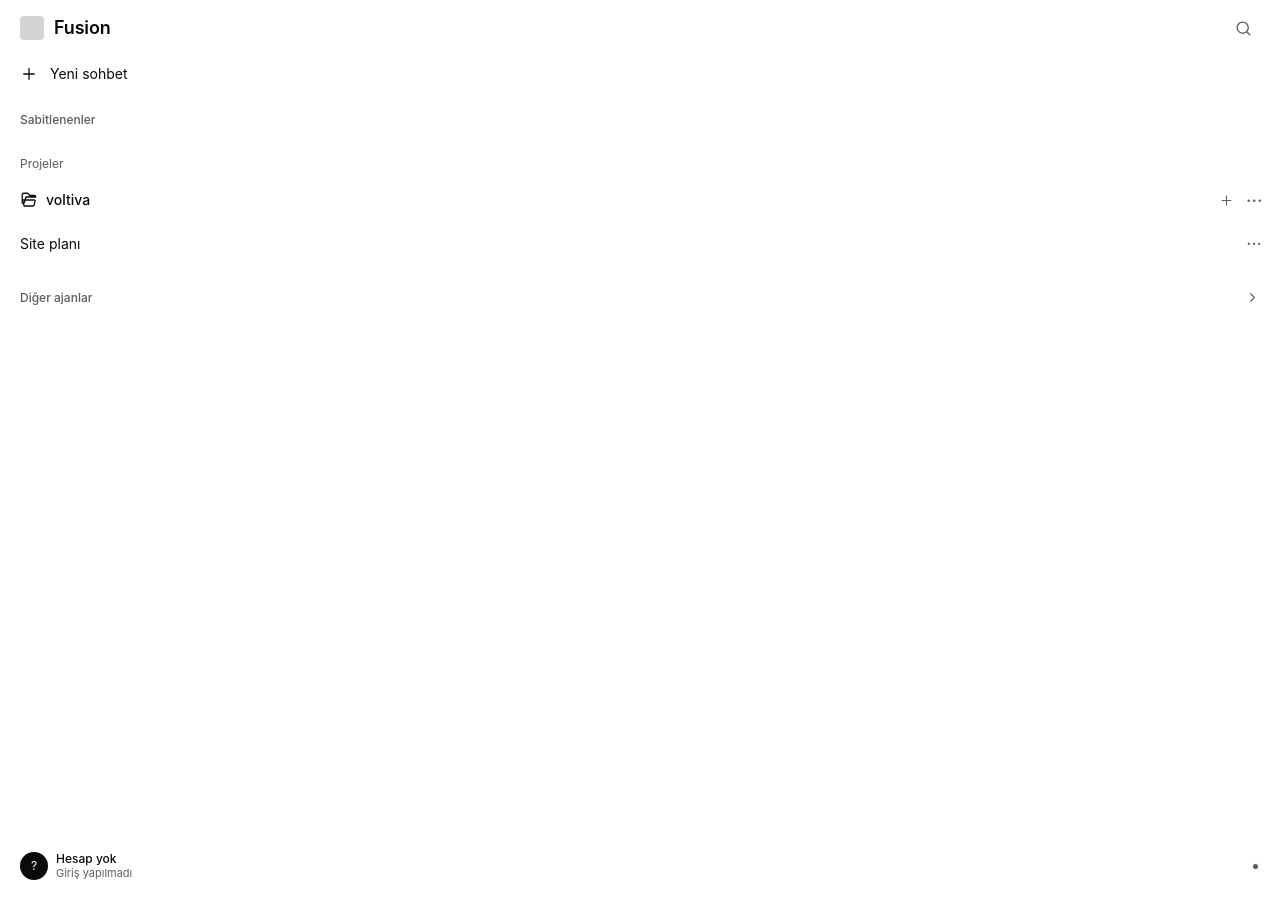
Test: Sidebar — proje akordeonu ve Projeler menüsü › varsayılan olarak açıktır; tıklanınca sohbetlerini gizler ve tekrar tıklanınca gösterir
Expected: the text "Site planı" is shown, [20,235,80,252]
Click the button with aria-label "voltiva projesini aç": point(68, 199) [12,180,1212,220]
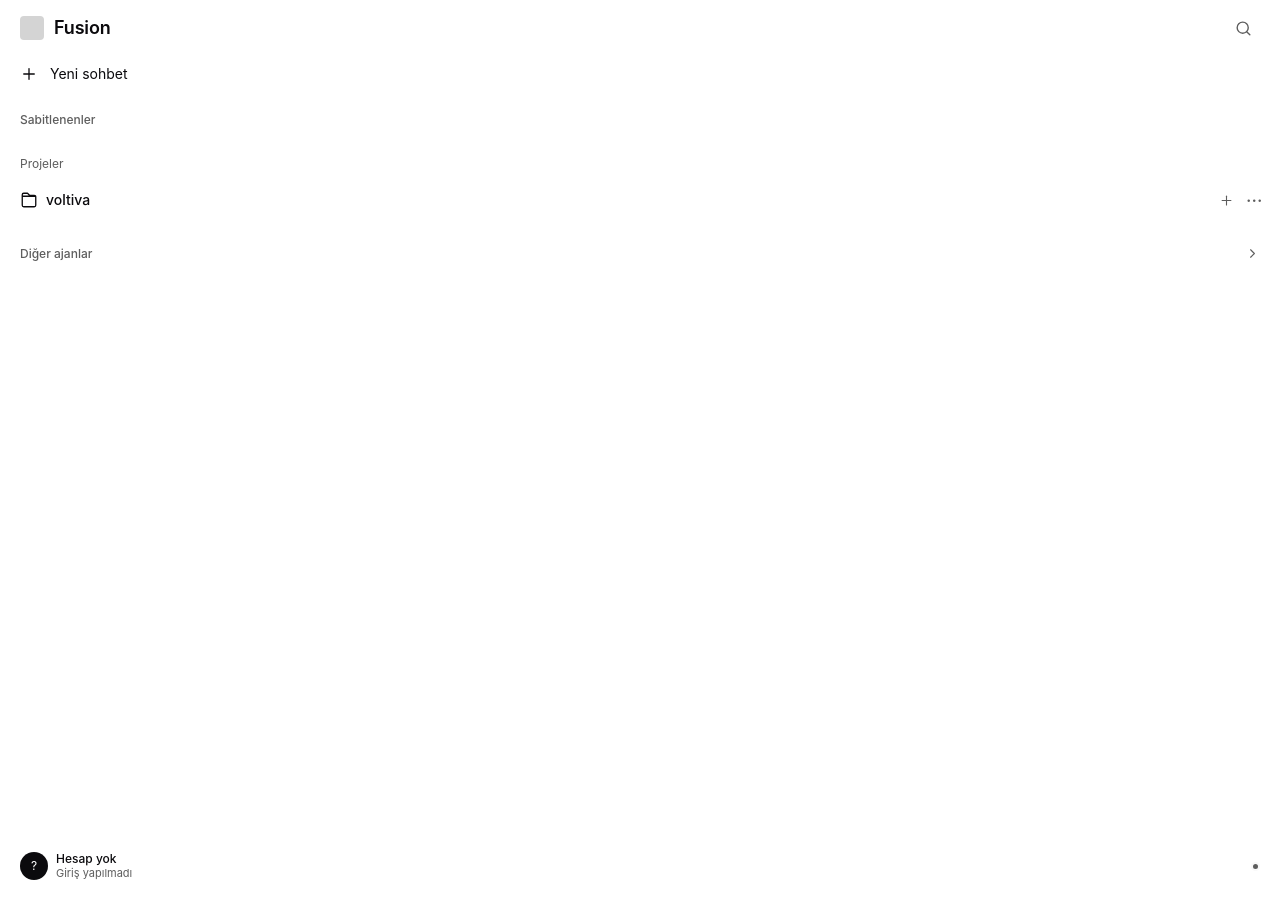
Expected: the button with aria-label "voltiva projesini aç" is collapsed
Expected: the button "Site planı" is gone
Click the button with aria-label "voltiva projesini aç": point(68, 199) [12,180,1212,220]
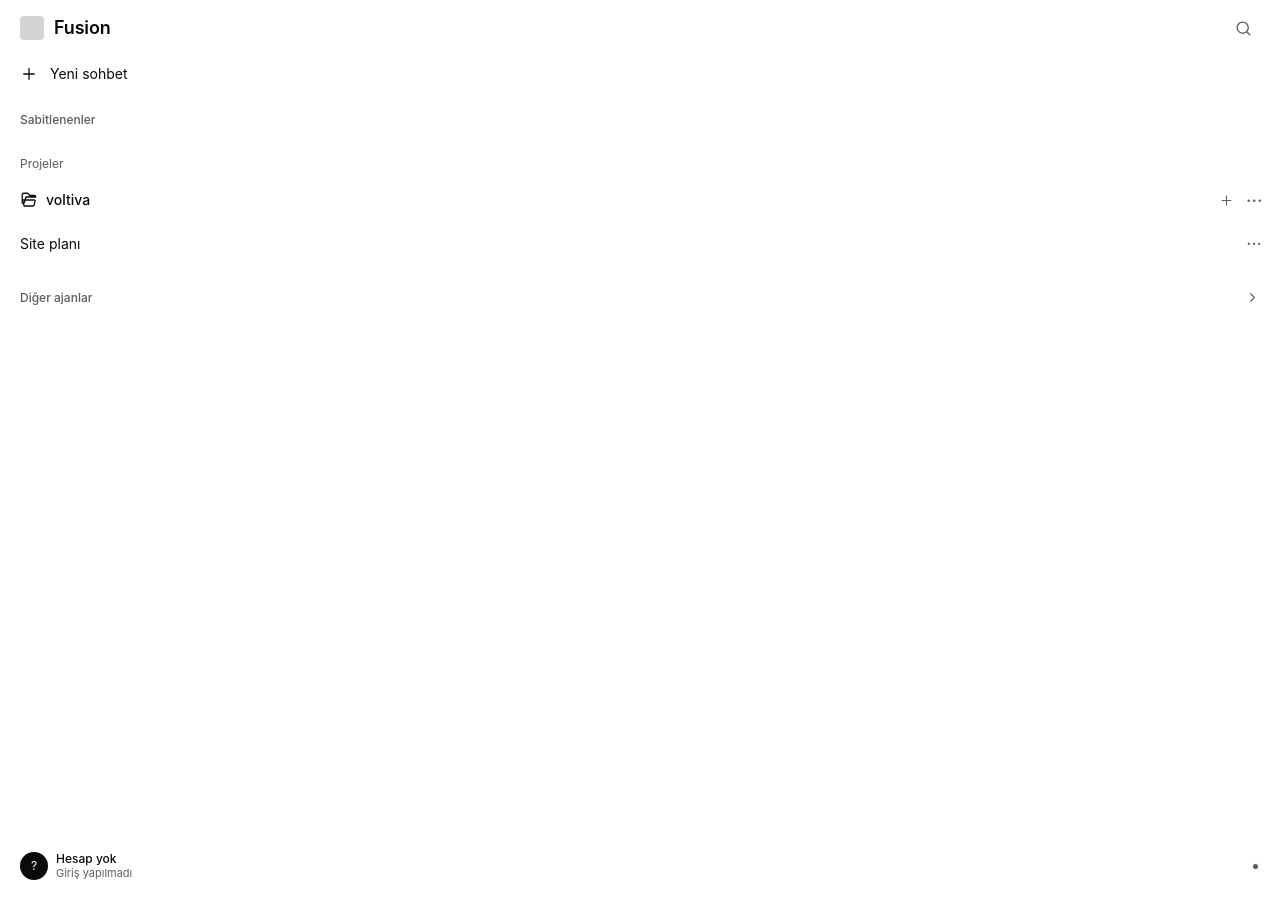
Expected: the button with aria-label "voltiva projesini aç" is expanded, [12,180,1212,220]
Expected: the text "Site planı" is shown, [20,235,80,252]
